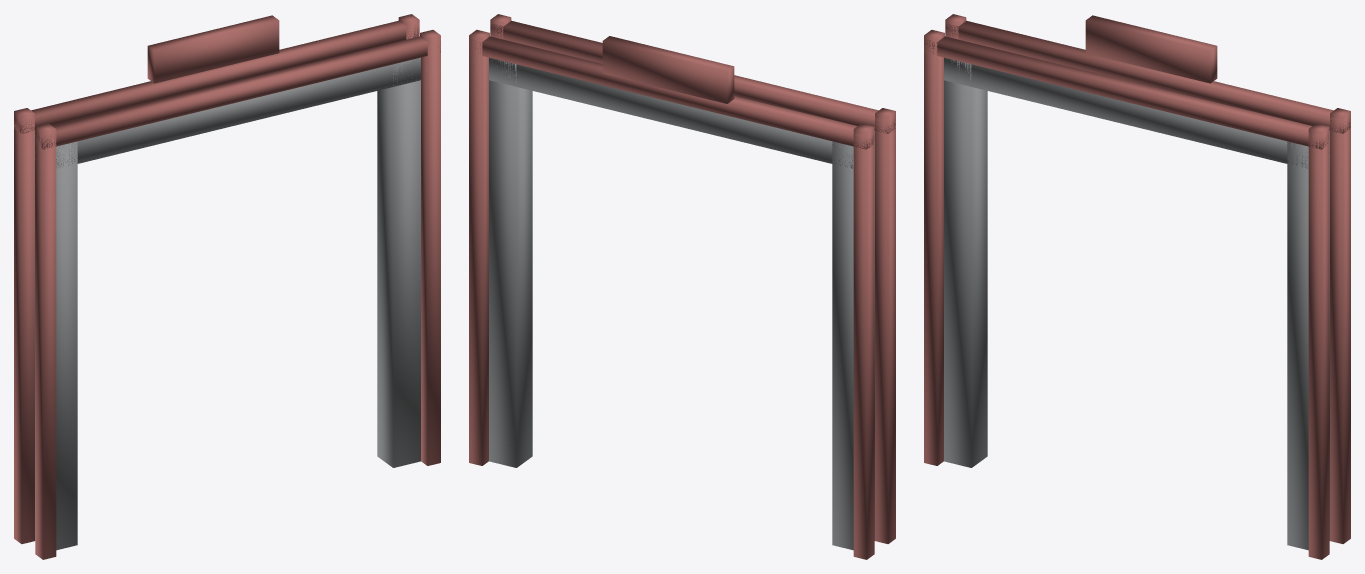
Rendered from doorway_emergency_exit_w182_h210_d16.glb.
3 views of the same model, side by side, from view 1: azimuth 30°, elevation 25°; view 2: azimuth 150°, elevation 25°; view 3: azimuth 330°, elevation 25° (orthographic).
Parts seen in each view (by area): view 1: world; view 2: world; view 3: world.
Part boxes in pixels (x1,y1,x2,y2): world: (14,14,440,559); world: (469,14,895,559); world: (924,14,1350,559).
Bounding box in the file's own units: 2.29 × 2.52 × 0.3203.
